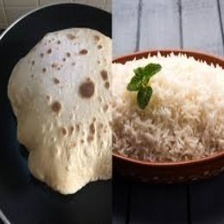rice: (111, 51, 224, 163)
